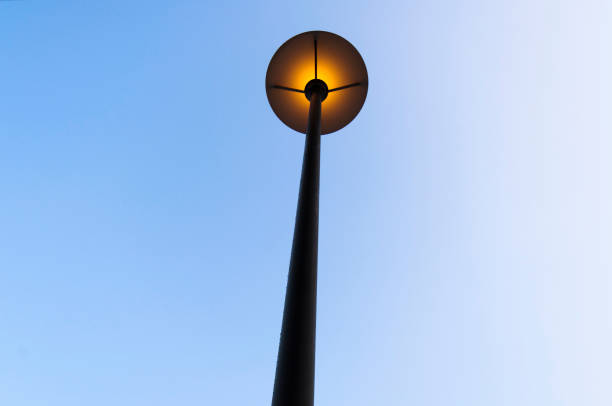light_pole: (270, 103, 318, 406)
